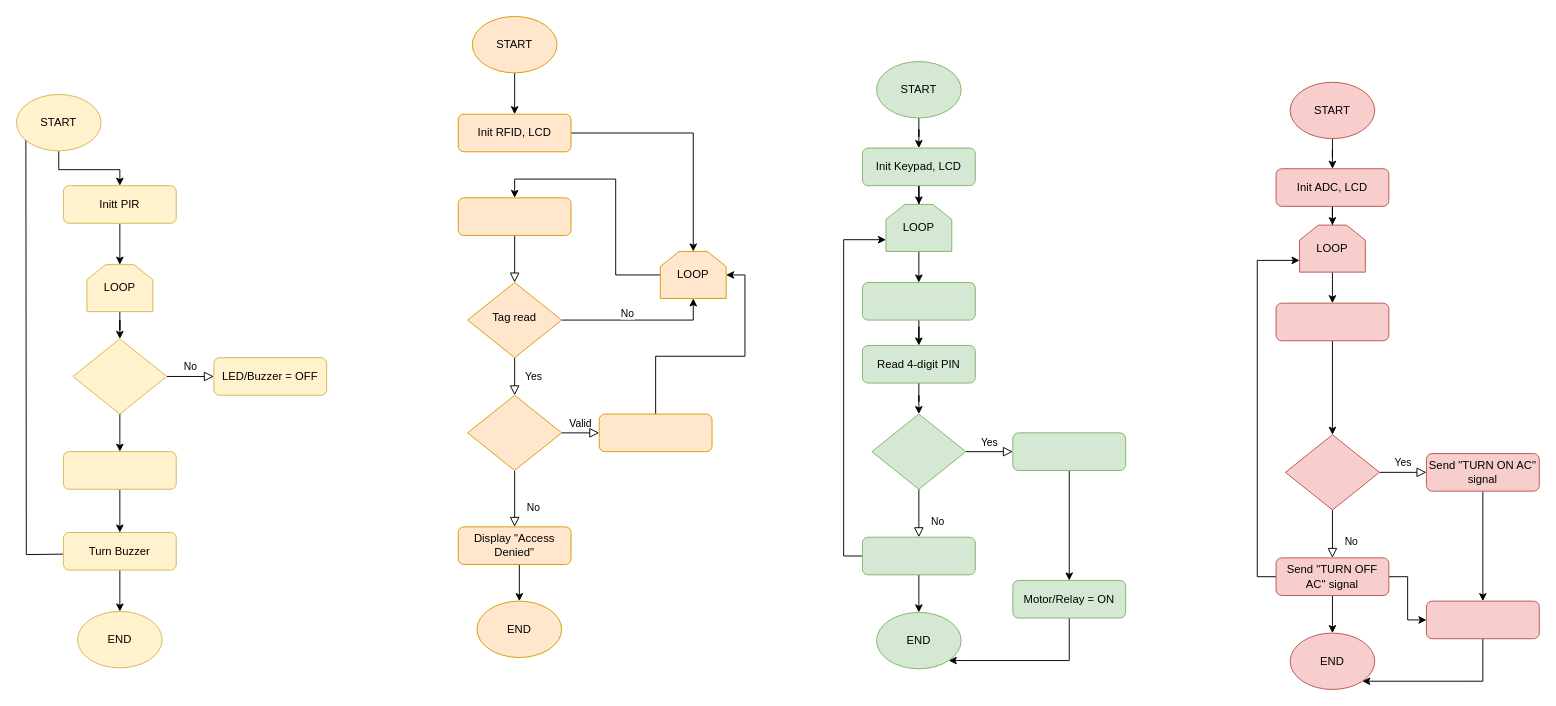
The diagram is 1556 pixels wide and 706 high, and some of its shapes have lost their labels. The centre of each missing label's shape, as x and y in pixels:
Check PIR (PIR=1): (x=119, y=376)
Display "Access Granted": (x=1069, y=451)
Display "Enter PIN": (x=918, y=301)
Display "Swipe Key": (x=655, y=432)
Display "Temp" on LCD: (x=1482, y=619)
Display "Wrong PIN": (x=918, y=555)
LED/Buzzer = ON: (x=119, y=470)
PIN correct: (x=918, y=451)
Read Temperature via ADC: (x=1332, y=321)
Temp > Threshold: (x=1332, y=472)
Validate UID: (x=514, y=432)
Wait for RFID Tag: (x=514, y=216)
